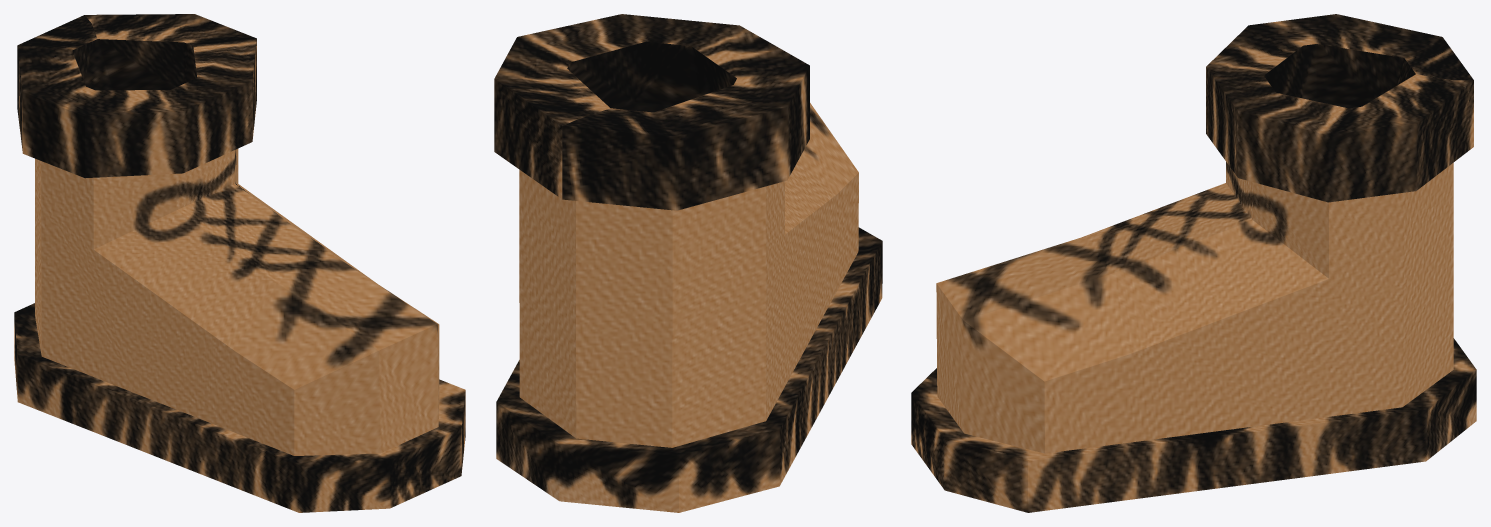
Rendered from detail_shoe_2.glb.
3 views of the same model, side by side, from view 1: azimuth 30°, elevation 25°; view 2: azimuth 150°, elevation 25°; view 3: azimuth 270°, elevation 25° (orthographic). The views are drawn at different scales.
Visible parts, largest first — view 1: Shoe.001; view 2: Shoe.001; view 3: Shoe.001.
Part boxes in pixels (<box>): Shoe.001: <box>14,14,465,512</box>; Shoe.001: <box>494,14,882,512</box>; Shoe.001: <box>911,14,1476,512</box>.
Bounding box in the file's own units: 0.0106 × 0.0106 × 0.016.
1 material, 1 textured.
